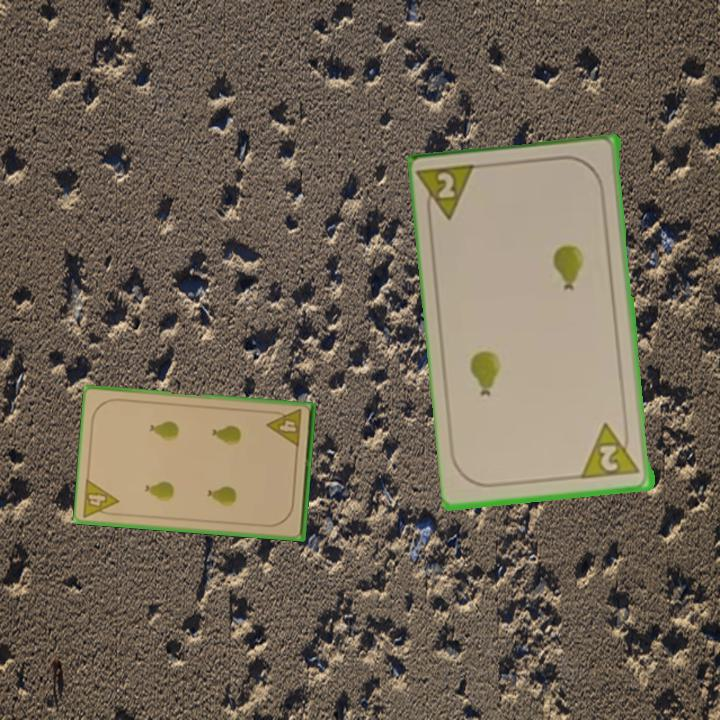2p: (417, 161, 482, 227), (580, 419, 643, 482)
4p: (80, 475, 122, 520), (264, 406, 304, 450)
